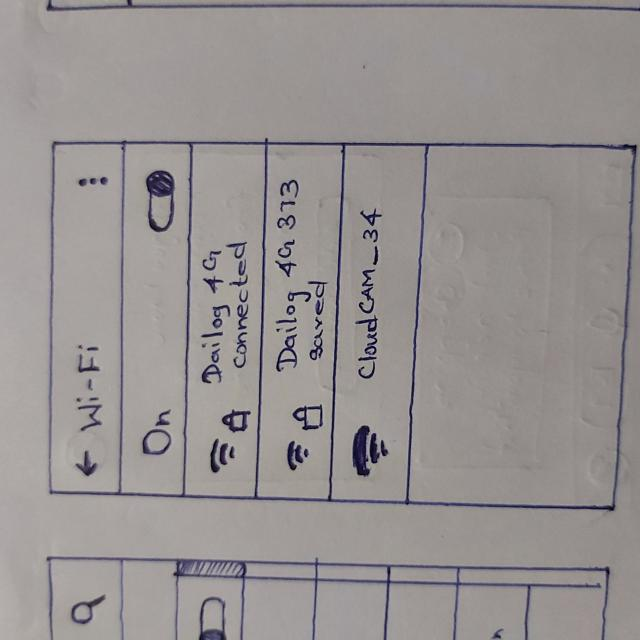ActionButton: (75, 170, 115, 192)
AppBar: (50, 140, 123, 495)
BackButton: (74, 448, 101, 479)
Icon: (351, 420, 391, 480), (204, 437, 238, 479), (282, 441, 316, 472), (293, 405, 325, 431), (222, 408, 251, 433), (78, 174, 110, 187)
Layout: (264, 142, 333, 501), (339, 145, 407, 500), (189, 144, 257, 497)
ListView: (189, 142, 610, 504)
MainLayout: (46, 139, 640, 513)
Switch: (145, 169, 175, 233)
TextView: (273, 177, 306, 377), (358, 211, 383, 384), (198, 248, 228, 388), (227, 239, 255, 377), (73, 342, 108, 437), (304, 275, 329, 371), (141, 406, 179, 463)
VerticalListView: (189, 142, 613, 507)
